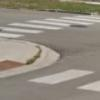crosswalks: (1, 15, 100, 40)
